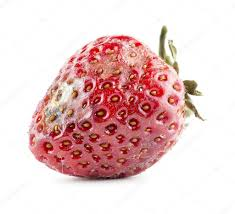damaged_strawberry: (34, 32, 185, 178)
